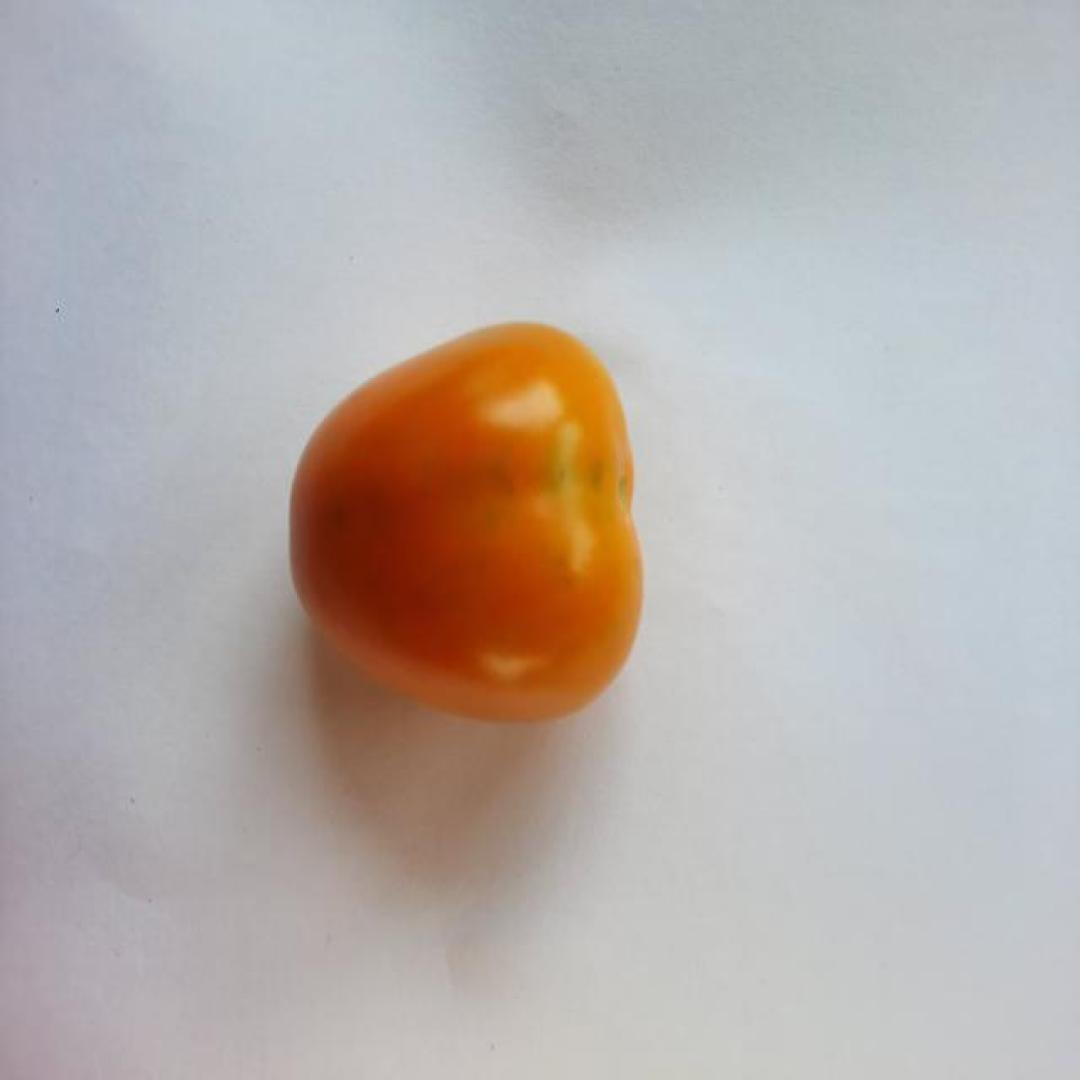setengah_matang: (288, 321, 646, 722)
